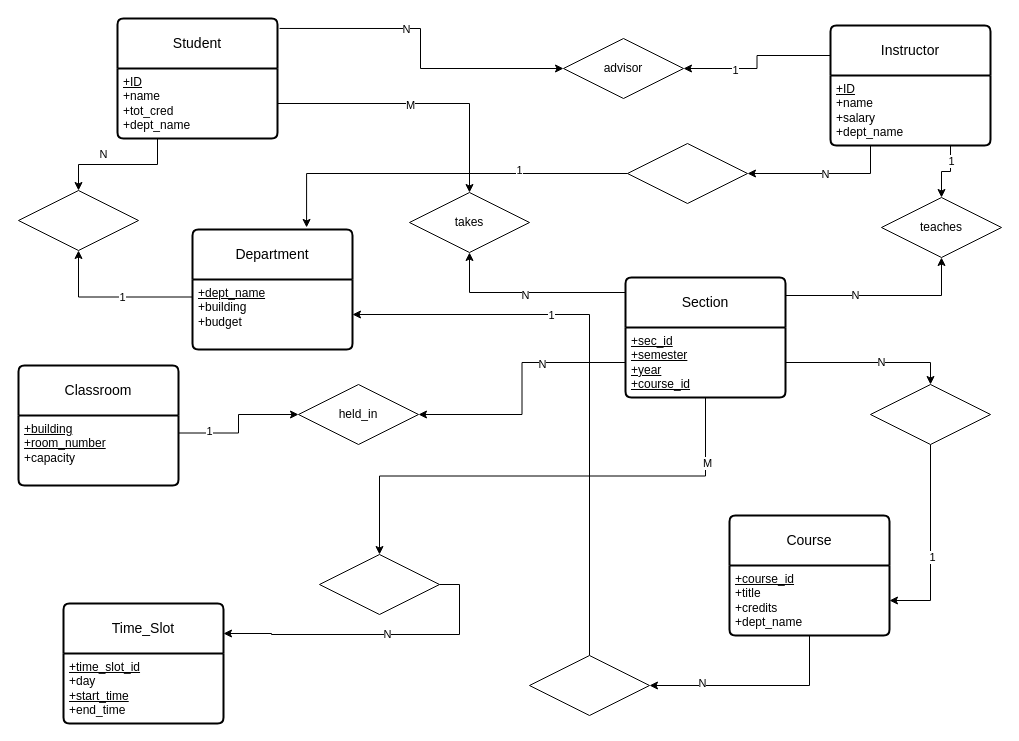
The diagram is 1019 pixels wide and 741 high, and some of its shapes have lost their labels. The shapes that lost their labels are listed below. From the top down, each one's centre as x and y in pixels, then its label:
At point 687,173: "works_in".
At point 78,220: "belongs_to".
At point 930,414: "is_for".
At point 379,584: "scheduled_at".
At point 589,685: "offered_by".
